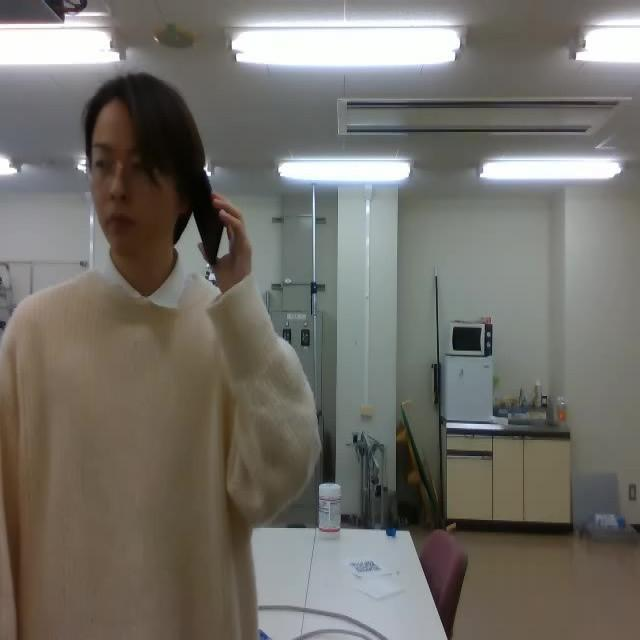Phone: (189, 168, 227, 267)
